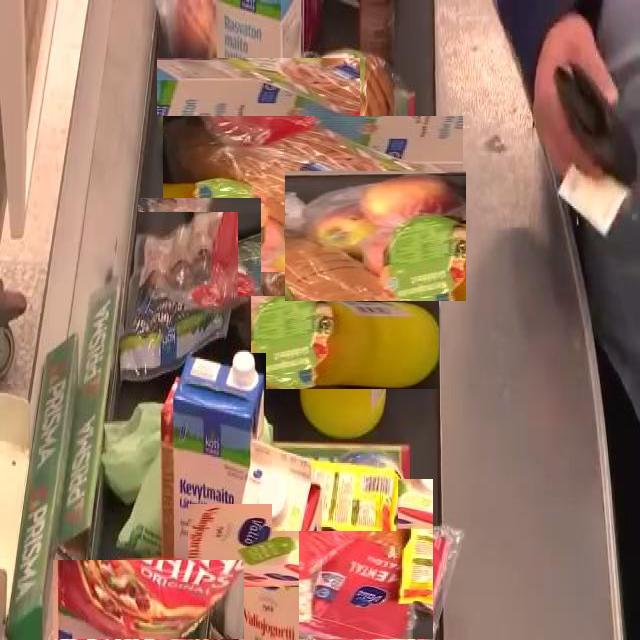beverage: (180, 353, 266, 580), (213, 478, 349, 614)
food-box: (199, 80, 427, 309), (285, 492, 445, 640), (186, 29, 332, 174), (122, 212, 238, 391), (274, 271, 416, 413), (52, 559, 244, 639), (144, 191, 255, 303), (272, 454, 398, 532)
fruit: (297, 157, 453, 314)
vegetable: (154, 116, 226, 215)
